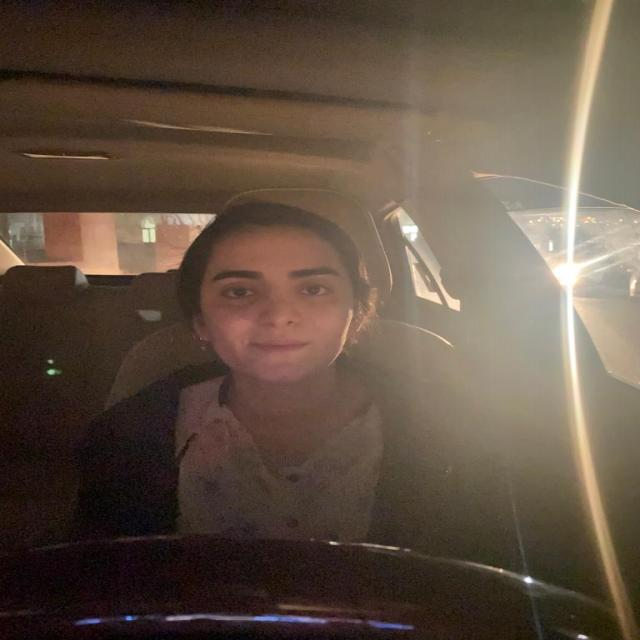person: (176, 198, 376, 390)
